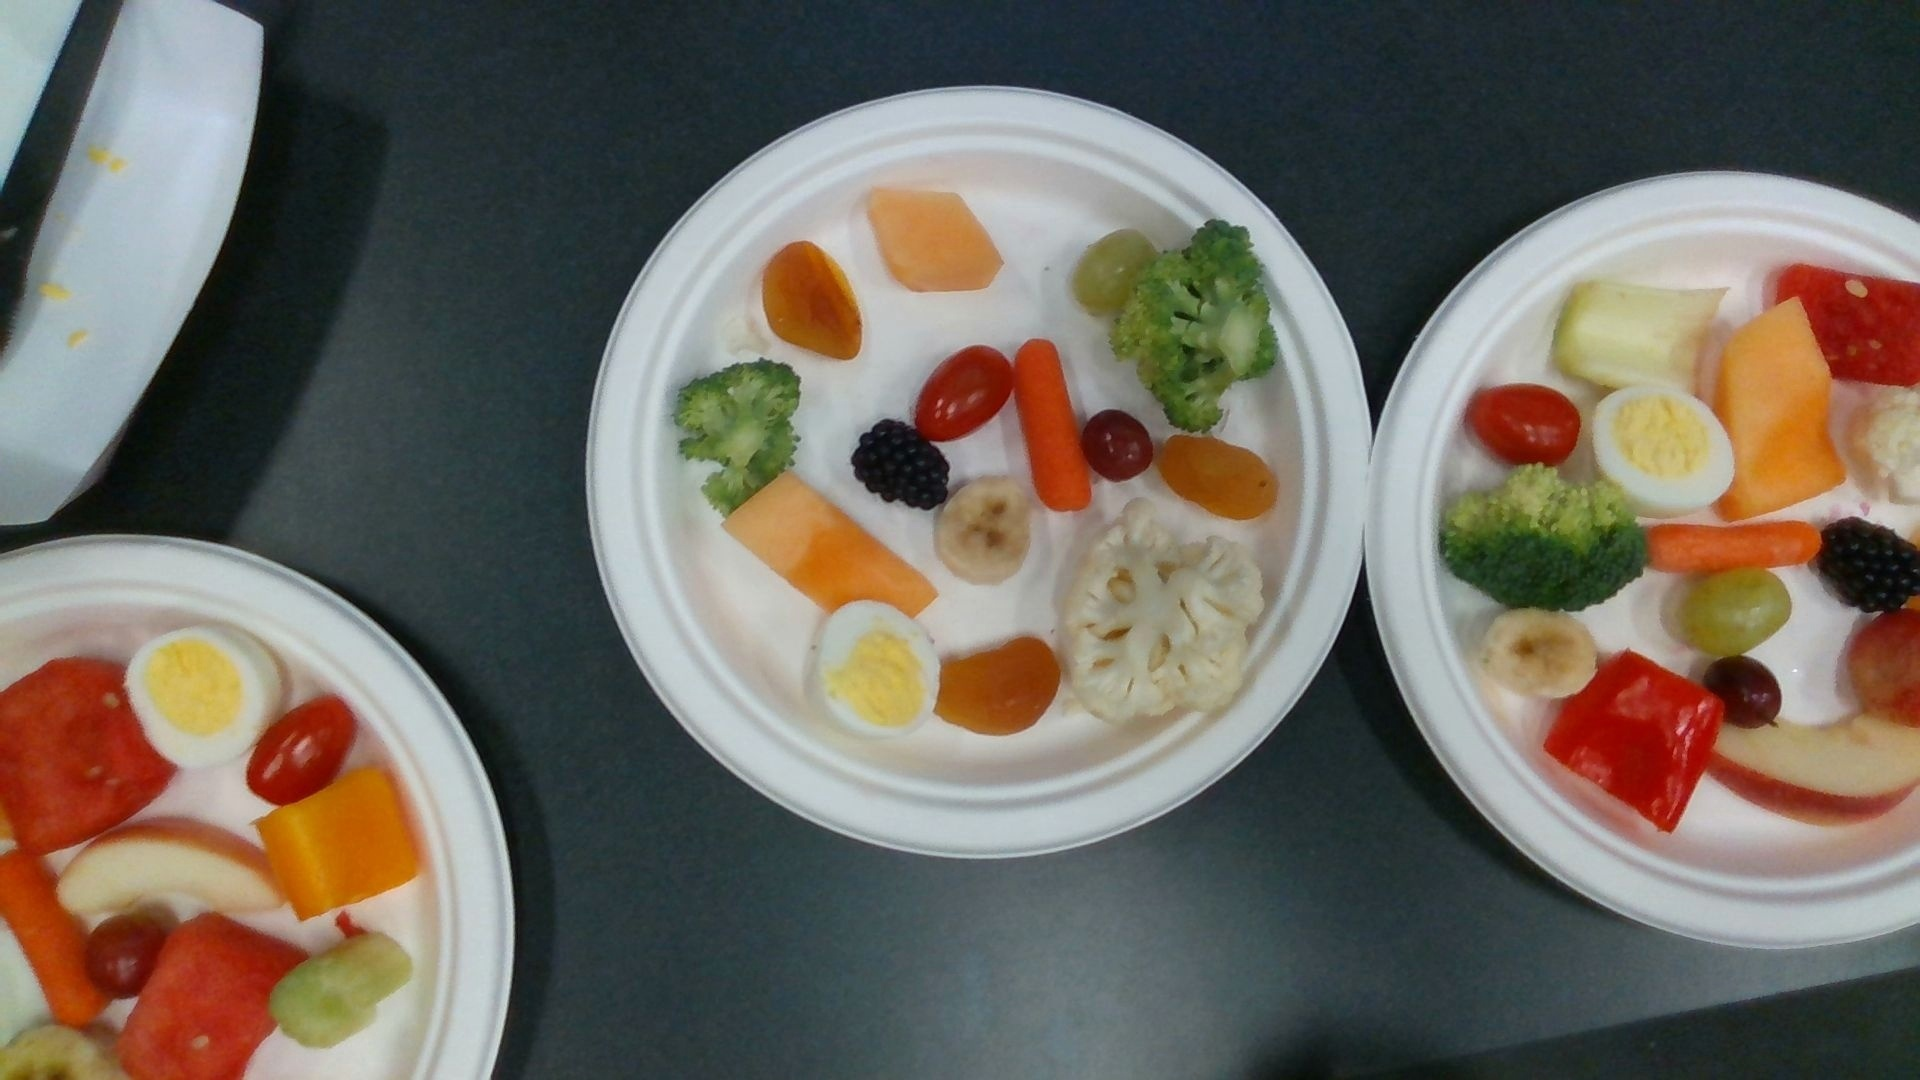apple: (1705, 721, 1919, 823), (59, 823, 285, 918)
apricot: (760, 245, 862, 361), (938, 641, 1062, 735), (1162, 435, 1279, 520)
banana: (1480, 611, 1597, 698), (935, 481, 1030, 583)
bell_pepper: (1547, 653, 1724, 825), (257, 773, 425, 918)
blackberry: (1825, 520, 1920, 608), (855, 423, 949, 510)
broccoli: (1114, 228, 1274, 431), (1440, 465, 1647, 611), (679, 367, 800, 508)
cantalope: (1704, 298, 1842, 518), (725, 476, 938, 616), (866, 185, 1002, 295)
carrot: (1, 847, 109, 1026), (1011, 343, 1087, 512), (1644, 526, 1825, 570)
cauliflower: (1065, 502, 1265, 721)
celery: (1557, 281, 1722, 390), (270, 931, 414, 1046)
cherry_tomato: (249, 700, 357, 800), (1466, 390, 1582, 465), (915, 349, 1011, 438)
egg: (127, 630, 284, 764), (1590, 385, 1730, 510), (819, 601, 939, 740)
grape_green: (1691, 575, 1792, 653), (1072, 229, 1155, 320)
grape_purple: (1705, 658, 1785, 731), (90, 920, 164, 992), (1084, 411, 1154, 481)
melon: (1, 661, 174, 847), (116, 918, 307, 1080), (1779, 265, 1920, 382)
strawberry: (1849, 611, 1920, 720)
